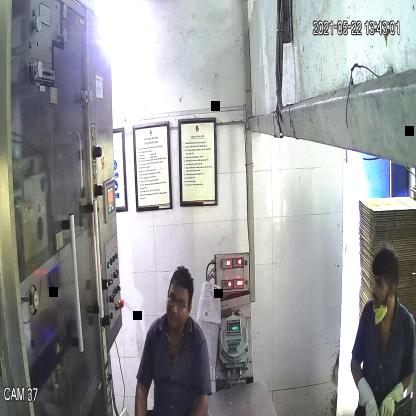goggles: (165, 292, 192, 314)
no_goggles: (368, 275, 393, 294)
